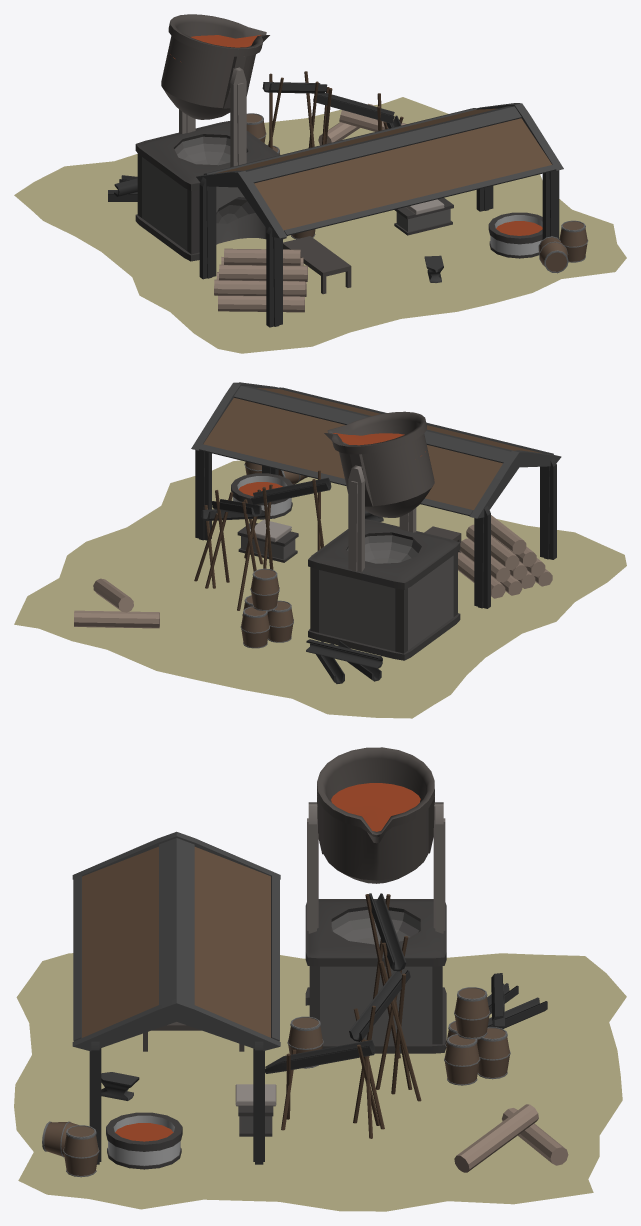
File: BlackSmith.fbx
3 renders of one model, top to bottom at view 1: azimuth 30°, elevation 25°; view 2: azimuth 150°, elevation 25°; view 3: azimuth 270°, elevation 25°, orthographic. The views are drawn at different scales.
Parts seen in each view (by area): view 1: Blacksmith; view 2: Blacksmith; view 3: Blacksmith.
Boxes of the visible parts, x1,y1,x2,y2 form: Blacksmith: [14, 14, 626, 353]; Blacksmith: [14, 382, 626, 718]; Blacksmith: [14, 747, 626, 1211].
Size of the model in its own units: 30.4 by 14.52 by 30.2.
